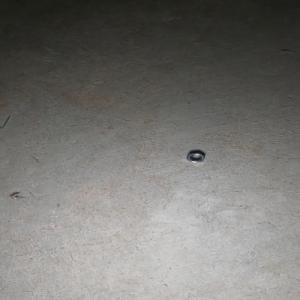Nut: (186, 152, 205, 163)
